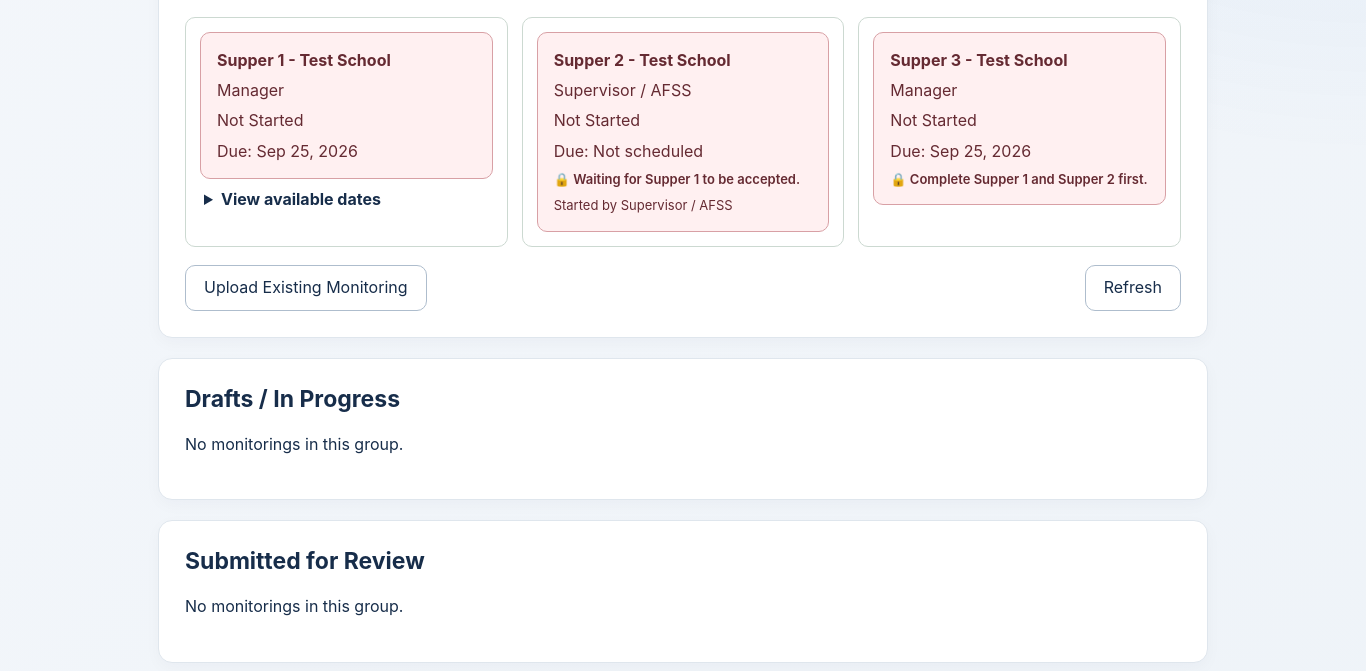
it: completed history opens read-only and final submission is unavailable
(page scrolled)
Click the button "Refresh". click: point(1133, 288)
box: x1=1085 y1=264 x2=1181 y2=310
(page scrolled)
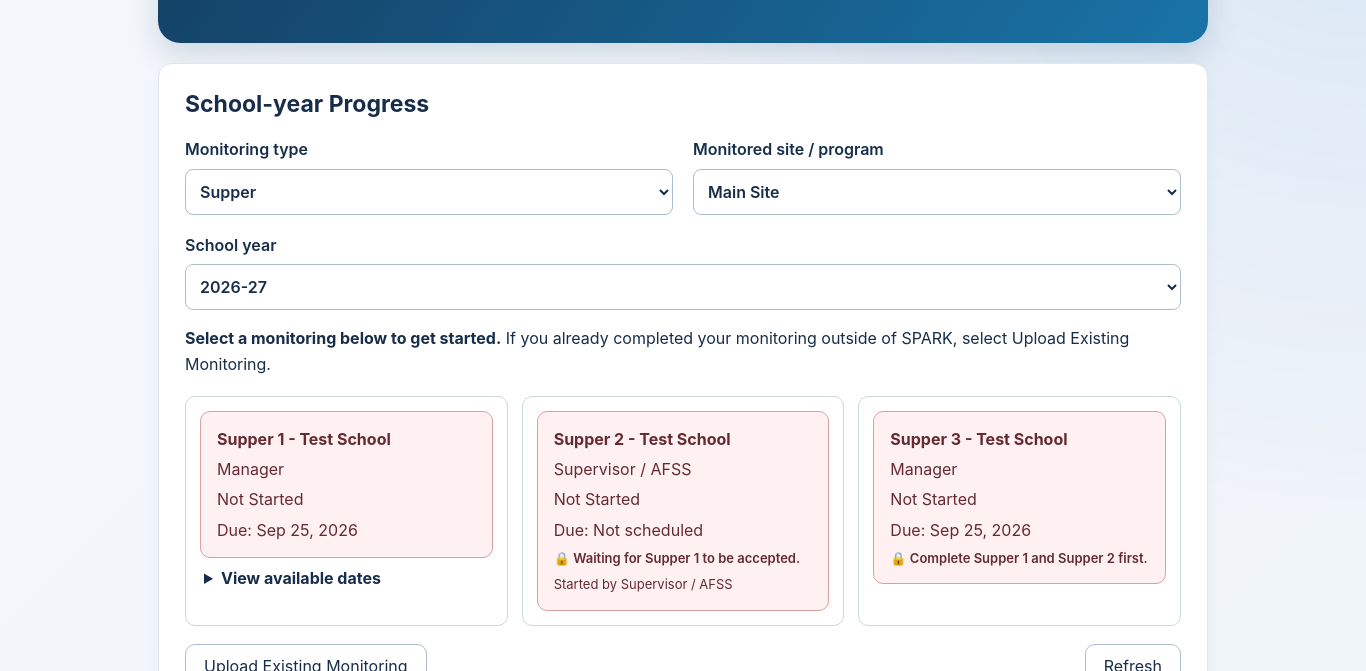
Select "2025-26" in the dropdown labelled "School year". click: point(683, 287)
box: x1=185 y1=264 x2=1181 y2=310
(page scrolled)
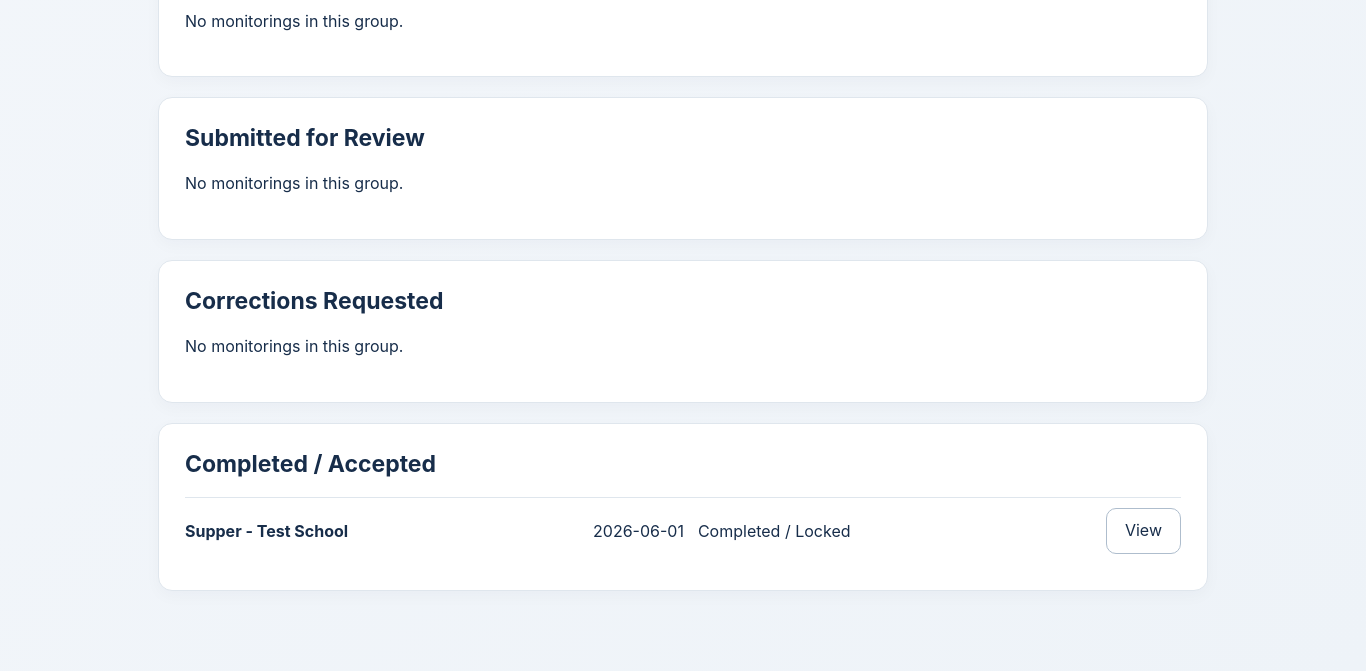
Expected: the button "View" is shown
Click the button "View". click: point(1144, 531)
box: x1=1106 y1=508 x2=1181 y2=554
(page scrolled)
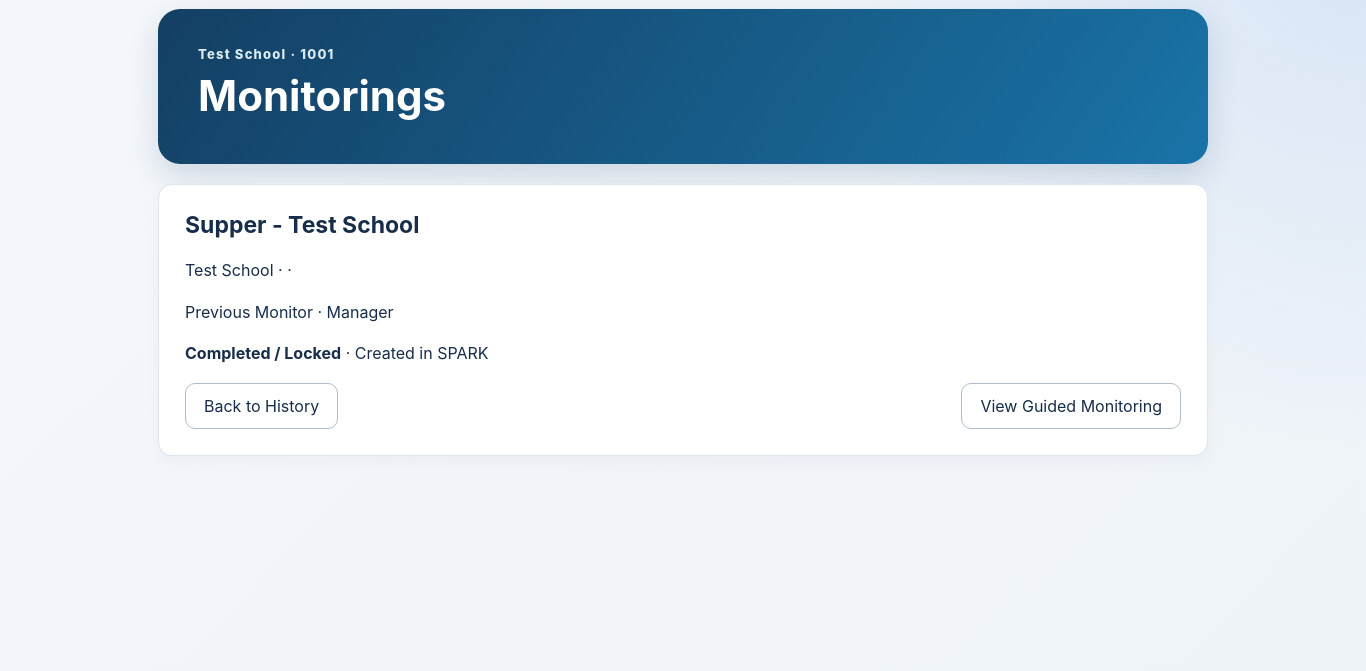
Expected: the button "View Guided Monitoring" is shown
Click the button "View Guided Monitoring". click: point(1071, 406)
box: x1=961 y1=383 x2=1181 y2=429
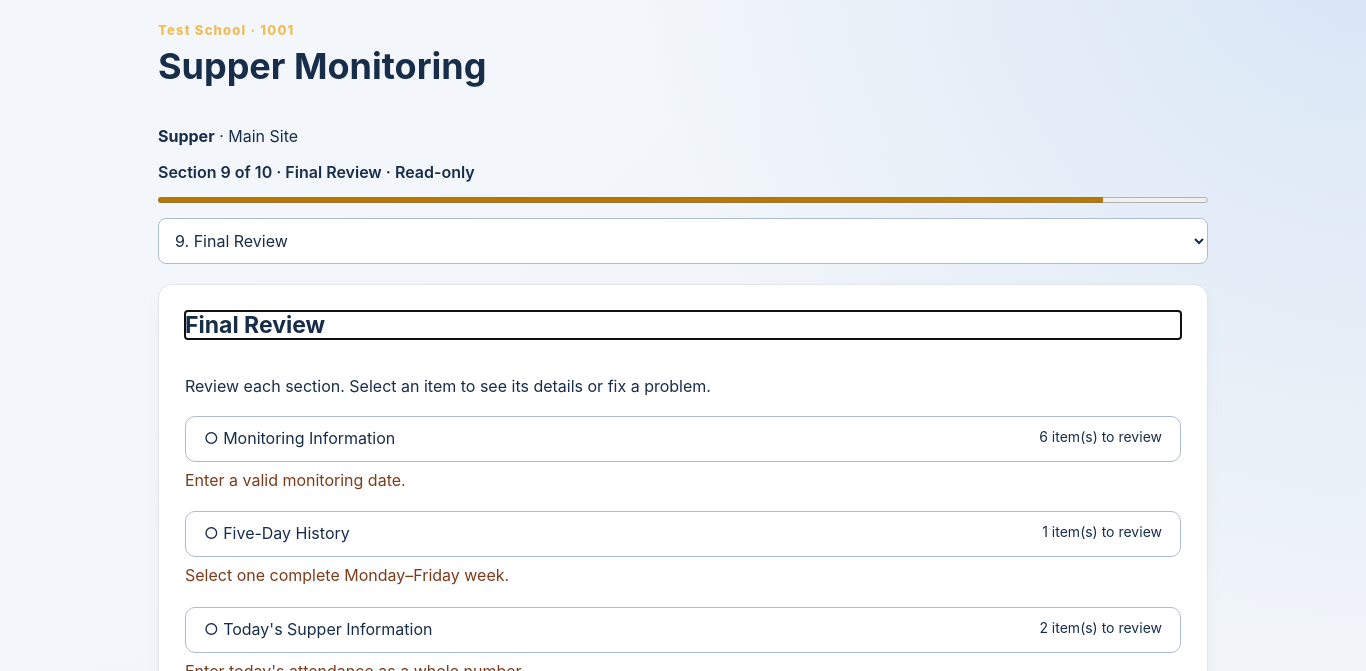
Expected: the text "Read-only" is shown, x1=382 y1=162 x2=475 y2=182
Select "8. Names & Signatures" in the dropdown named "Go to section". click: point(683, 241)
box: x1=158 y1=218 x2=1208 y2=264
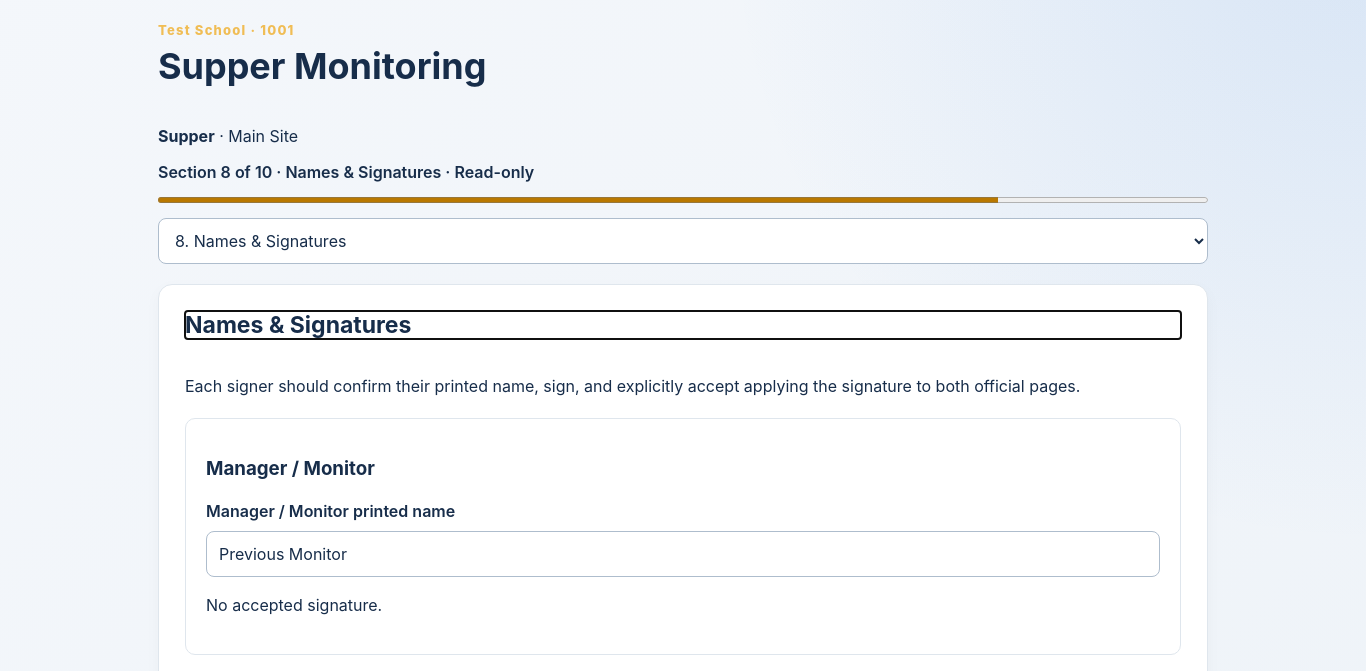
Expected: the field with id "monitorName" holds "Previous Monitor", x1=206 y1=531 x2=1160 y2=577
